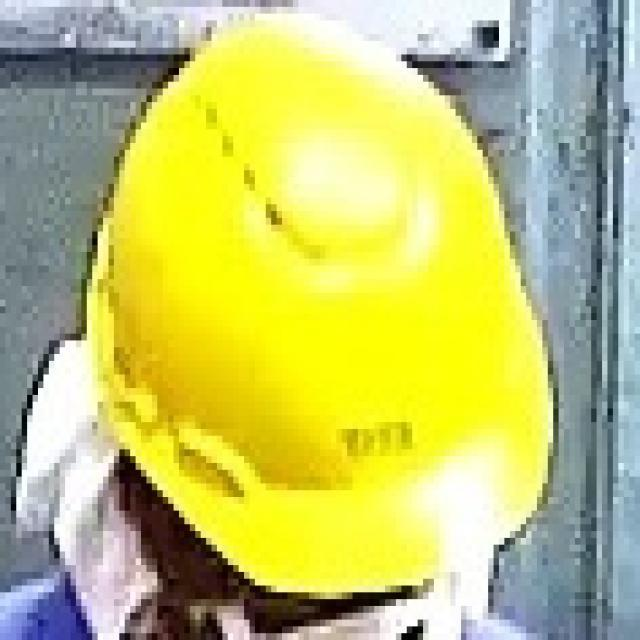yellow helmet: (81, 10, 562, 601)
